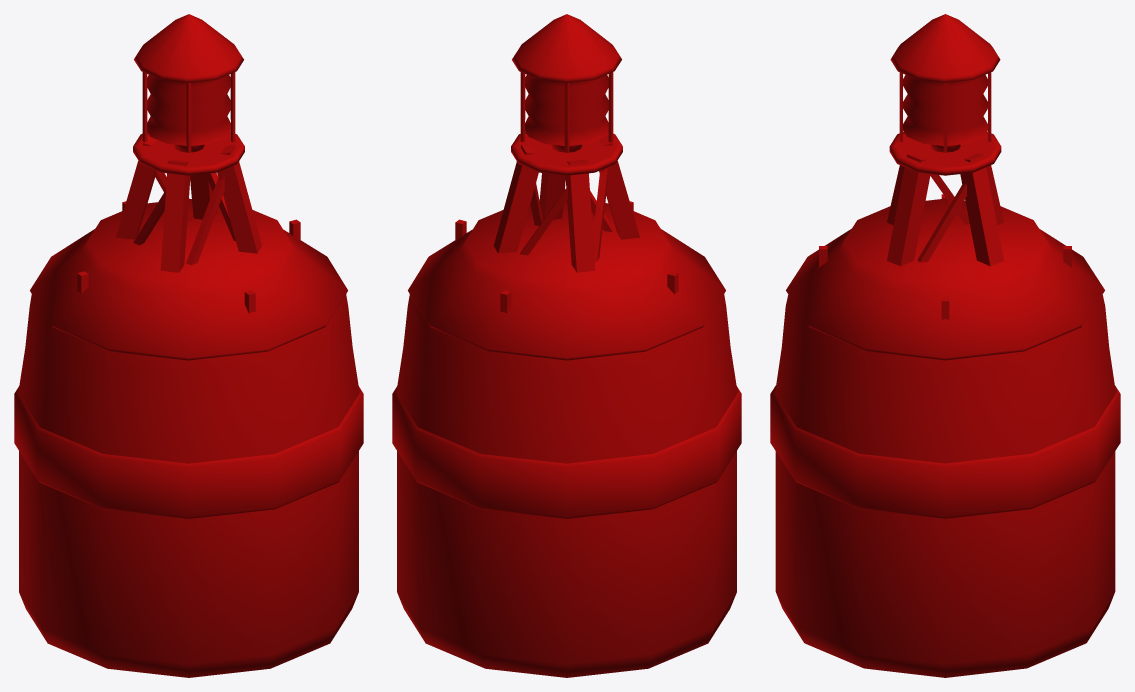
File: buoy.glb
3 views of the same model, side by side, from view 1: azimuth 30°, elevation 25°; view 2: azimuth 150°, elevation 25°; view 3: azimuth 270°, elevation 25° (orthographic).
Parts seen in each view (by area): view 1: can, tower; view 2: can, tower; view 3: can, tower.
Part boxes in pixels (x1,y1,x2,y2): can: (14, 198, 363, 677); tower: (116, 14, 262, 272); can: (392, 200, 741, 677); tower: (493, 14, 639, 272); can: (770, 194, 1120, 677); tower: (884, 14, 1006, 358).
Bounding box in the file's own units: 2.06 × 3.92 × 2.06.
